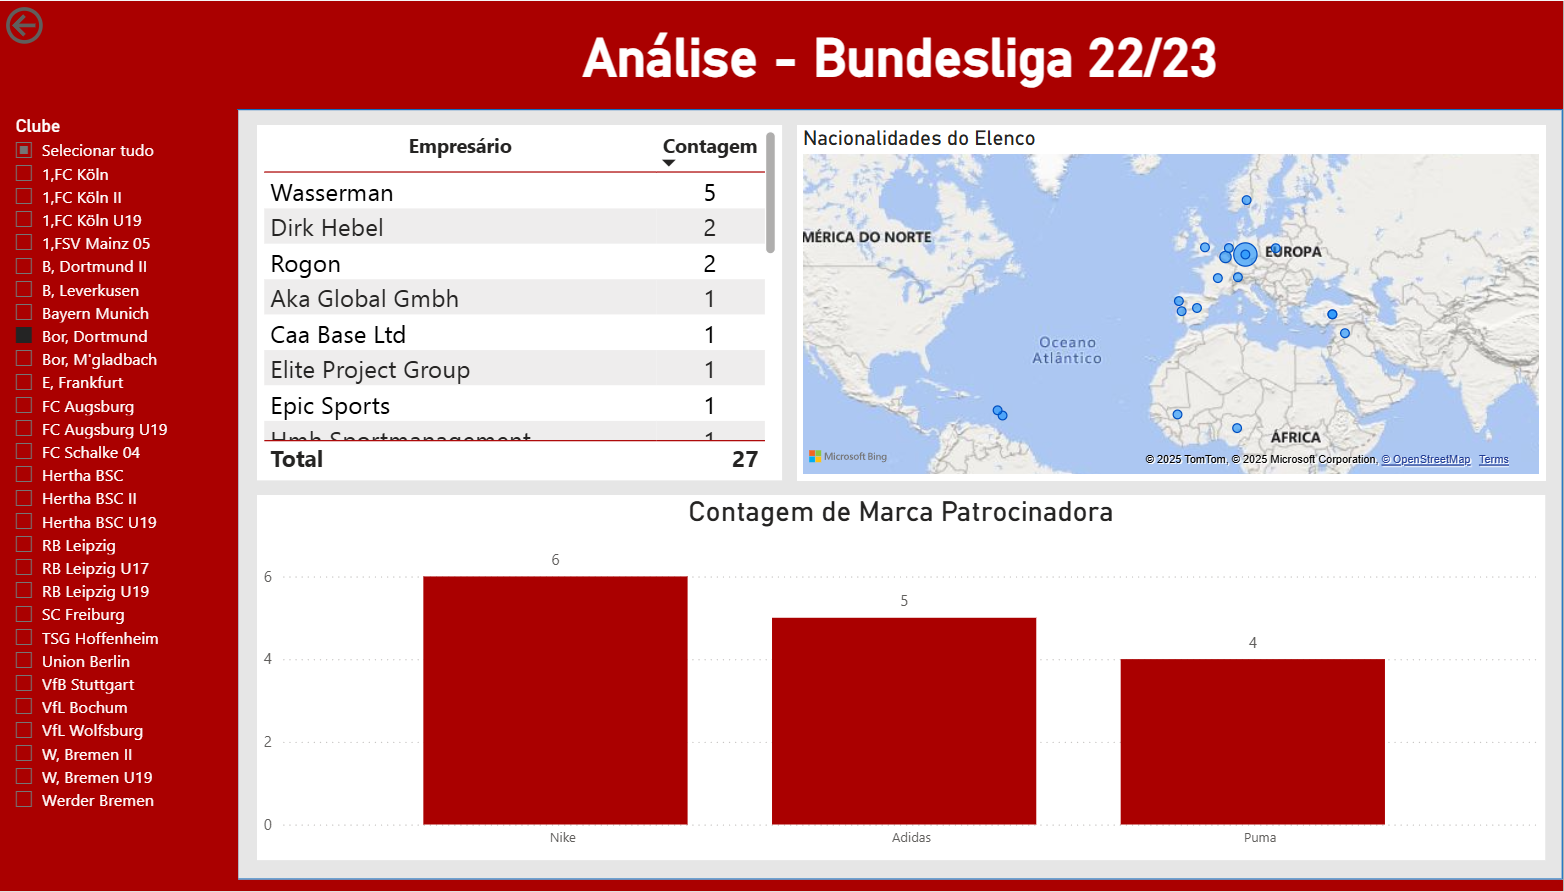

This screenshot's page, from the dashboard's own definition file:
{"tool":"powerbi","page":{"name":"Página 2","canvas":[1280,720],"ordinal":1},"visuals":[{"type":"textbox","box":[0,16.9,1280,60.4],"z":0},{"type":"shape","box":[0,89.4,1280,630.3],"z":1000},{"type":"clusteredColumnChart","title":"Principais Marcas Patrocinadoras de Atletas","fields":{"Category":["bundesliga_player 2.Marca Patrocinadora"],"Y":["CountNonNull(bundesliga_player 2.Marca Patrocinadora)"]},"box":[14.5,404.5,429.9,298.3],"z":3000},{"type":"tableEx","fields":{"Values":["bundesliga_player 2.Agenciador","CountNonNull(bundesliga_player 2.Agenciador)"]},"box":[14.5,102.6,429.9,291],"z":4000},{"type":"map","title":"Nacionalidades do Elenco","fields":{"Category":["bundesliga_player 2.Nacionalidade"],"Size":["CountNonNull(bundesliga_player 2.Nacionalidade)"]},"box":[452.8,101.4,812.7,601.4],"z":5000},{"type":"pageNavigator","box":[1141.2,21.4,120.4,50],"z":6000},{"type":"actionButton","box":[1083.2,21.7,49.5,49.5],"z":7001}]}

Visuals, with their boxes in screenshot pixels (x1, y1, x2, y2), scaled from the page's 1280x720 canvas onto the 1564x892 screenshot:
textbox: bbox=[0, 21, 1563, 96]
shape: bbox=[0, 111, 1563, 891]
"Principais Marcas Patrocinadoras de Atletas" clusteredColumnChart: bbox=[18, 501, 543, 871]
tableEx - bundesliga_player 2.Agenciador x CountNonNull(bundesliga_player 2.Agenciador): bbox=[18, 127, 543, 488]
"Nacionalidades do Elenco" map: bbox=[553, 126, 1546, 871]
pageNavigator: bbox=[1394, 27, 1542, 88]
actionButton: bbox=[1324, 27, 1384, 88]
